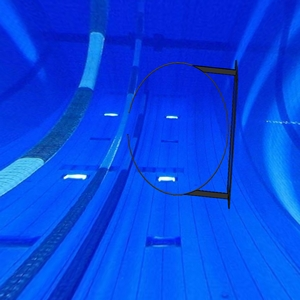circle: (126, 59, 240, 210)
